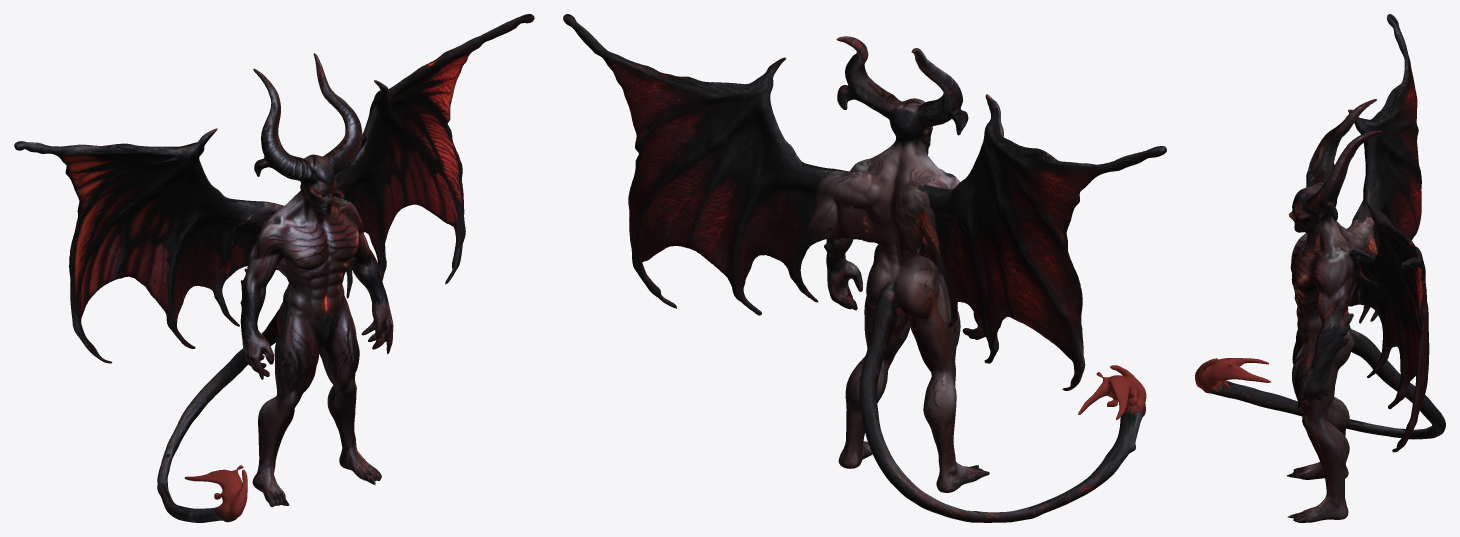
The model's file is lucifero2.fbx.
3 views of the same model, side by side, from view 1: azimuth 30°, elevation 25°; view 2: azimuth 150°, elevation 25°; view 3: azimuth 270°, elevation 25° (orthographic). The views are drawn at different scales.
Parts seen in each view (by area): view 1: Mesh_0; view 2: Mesh_0; view 3: Mesh_0.
Boxes of the visible parts, <box> form: Mesh_0: <box>14,14,534,522</box>; Mesh_0: <box>563,14,1166,522</box>; Mesh_0: <box>1195,14,1445,522</box>.
Bounding box in the file's own units: 201 × 147 × 86.64.
Materials: 1 (1 with a texture image).
